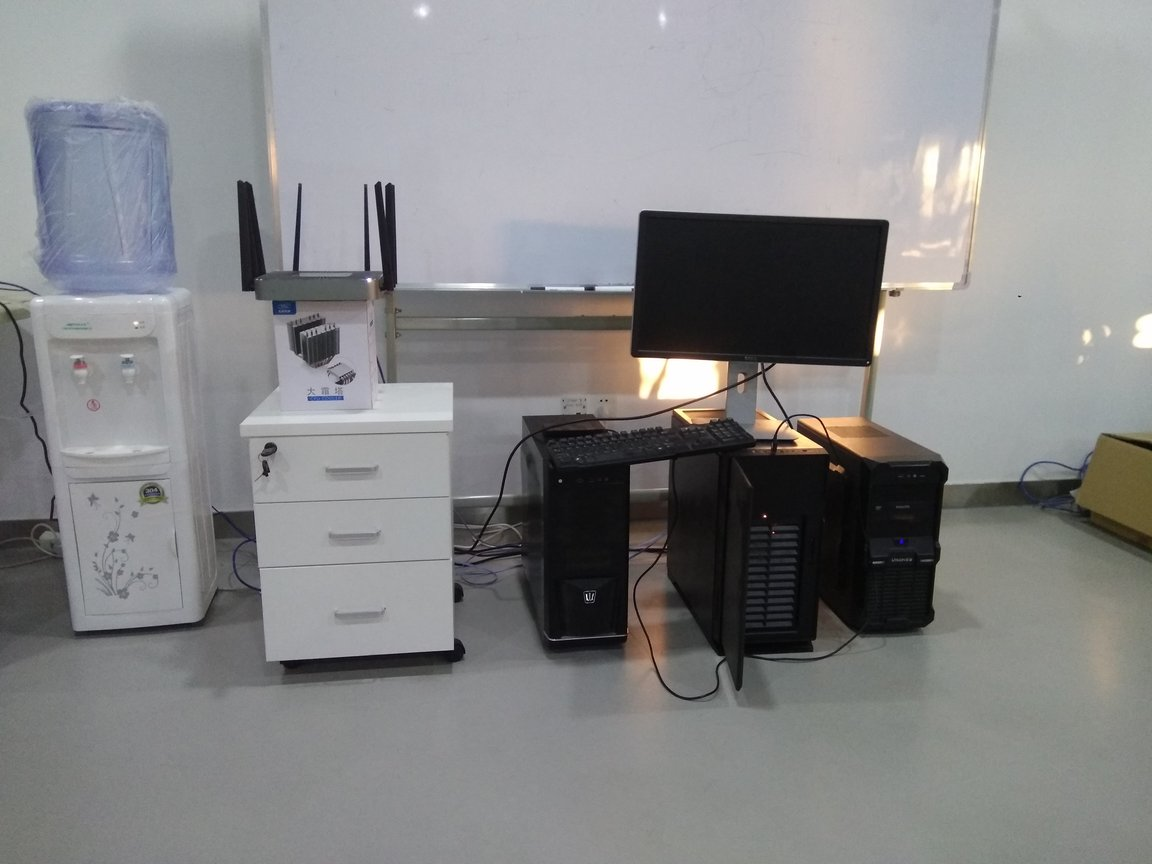computer: (669, 401, 821, 690), (799, 409, 941, 645), (518, 409, 631, 660)
drawer chest: (238, 370, 469, 678)
monitor: (627, 190, 890, 440)
scuttlebutt: (17, 88, 202, 301)
water dispenser: (14, 284, 231, 639)
